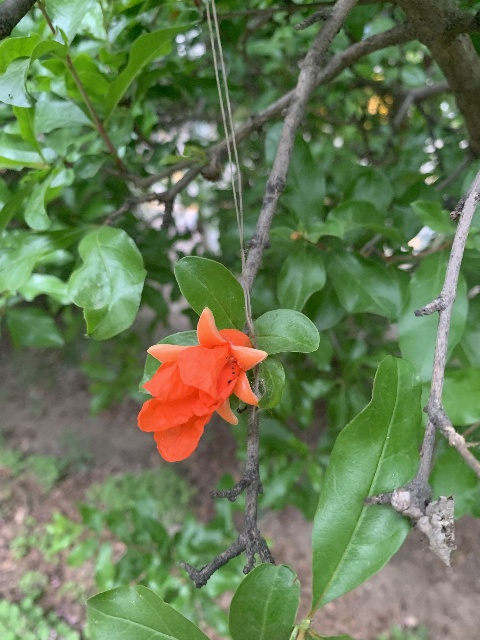flower: (136, 306, 268, 462)
